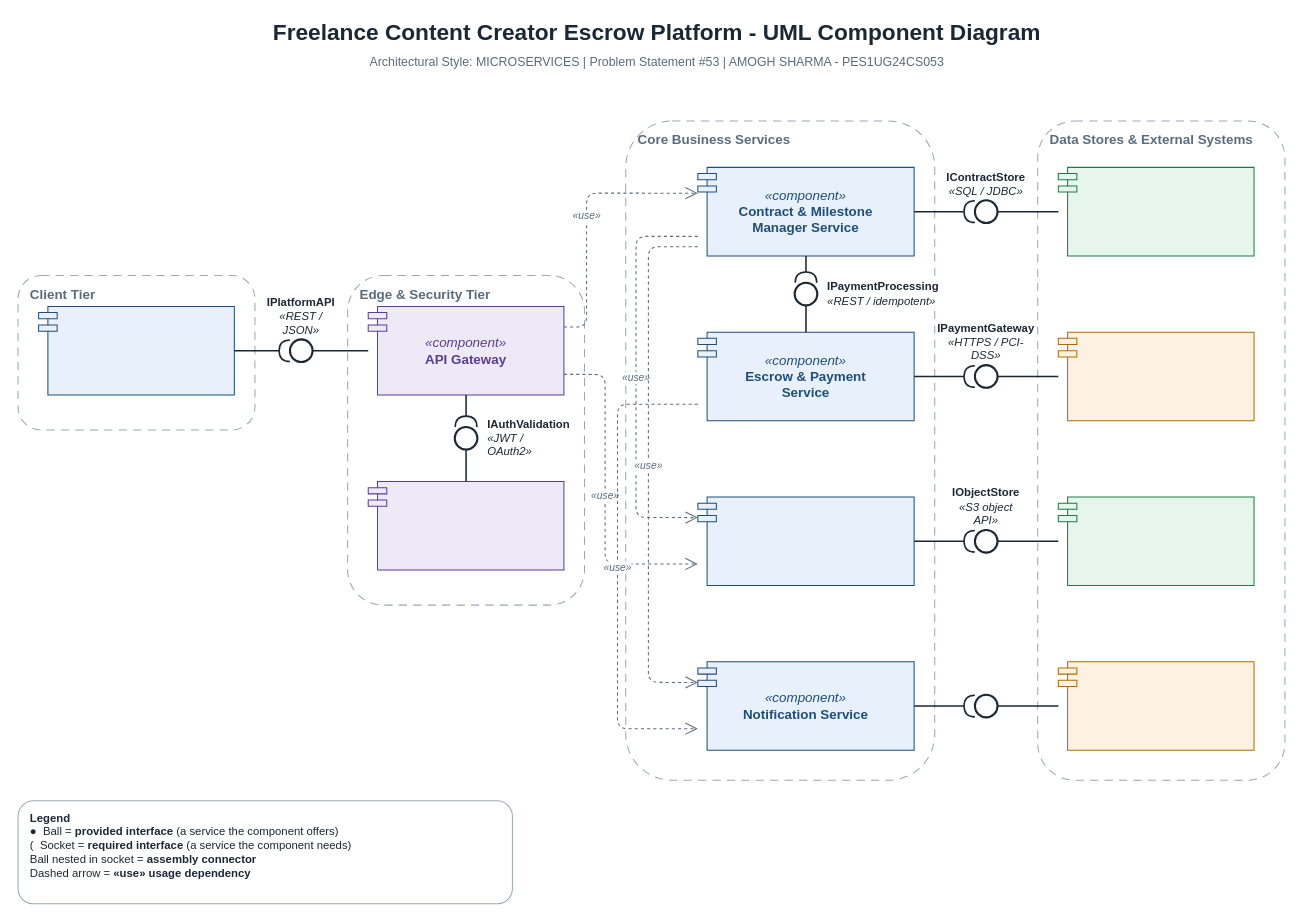
This 1313x922 diagram has some shape labels left out. Each missing label, with the centre of its shape:
INotifyChannel «SMTP / FCM»: point (985, 705)
«component» Asset & Watermarking Service: point (805, 541)
«component» Client Application (Creator / Sponsor): point (136, 350)
«component» Identity & Access Service: point (465, 525)
«database» Contract & Escrow Database: point (1155, 211)
«database» Media Object Store: point (1155, 541)
«external» Email / Push Provider: point (1155, 705)
«external» Payment Gateway: point (1155, 376)
